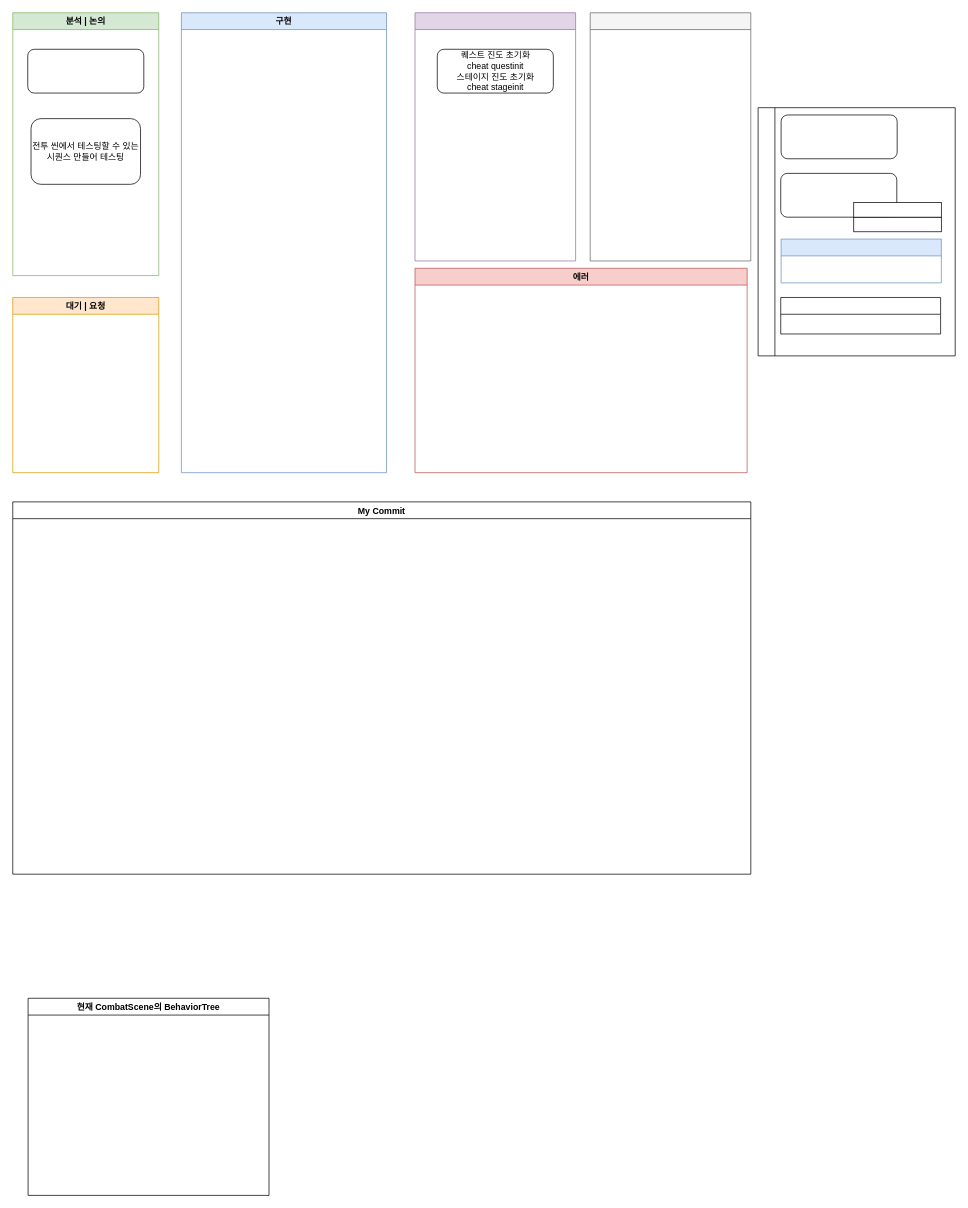
Image size: 968x1208. Some labels were removed from this diagram. The box of each missing label's shape, as (x1, y1, x2, y2) in pixels:
Tool: (757, 107, 955, 356)
고려: (414, 12, 576, 261)
폐기 | 완료: (589, 12, 751, 261)
현재 씬이 아닌 씬을 대상으로 하는 시퀀스 정상 작동: (27, 49, 144, 93)
